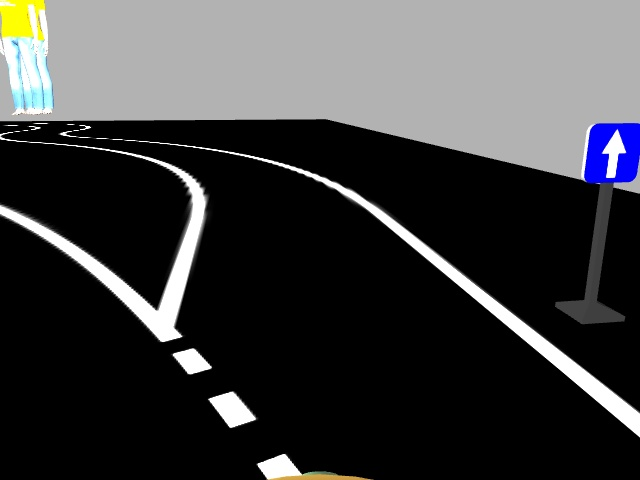OneWay: (582, 120, 637, 176)
